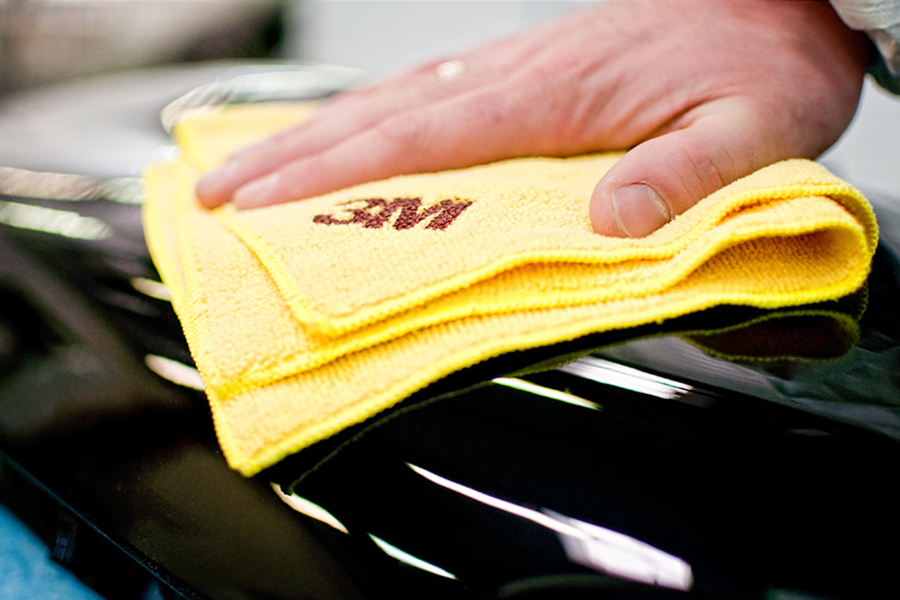3M: (305, 186, 478, 240)
